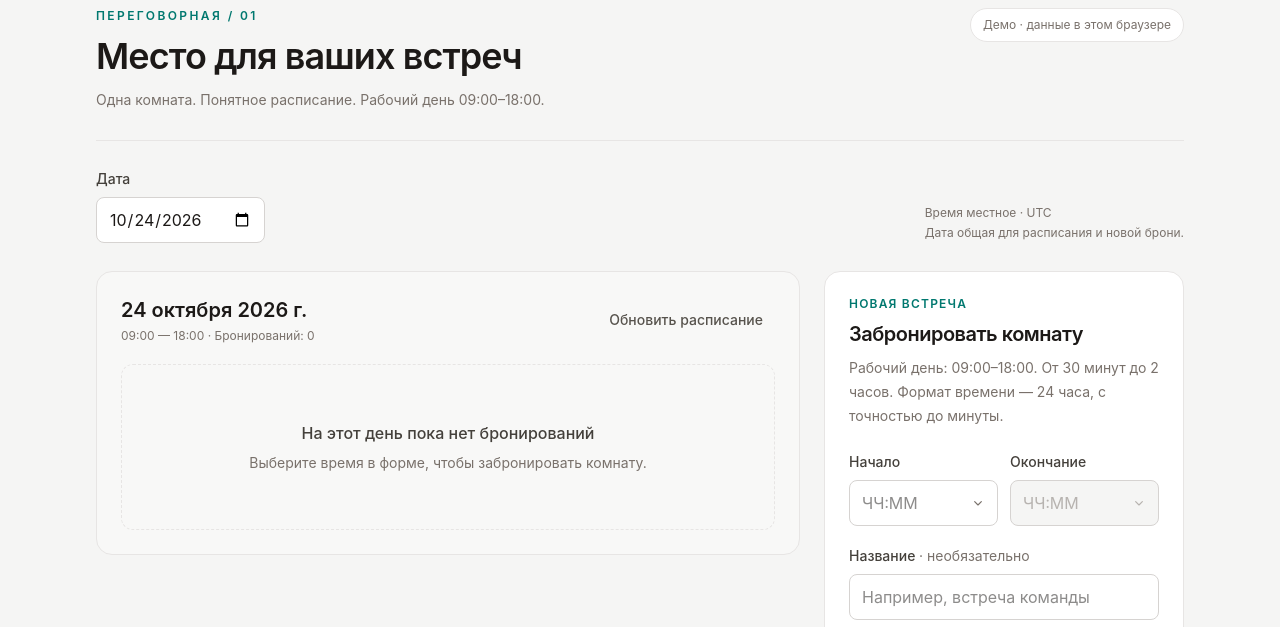
Test: booking UI through real HTTP handlers › keeps both conflict and draft when the 409 refetch also fails
Expected: the text "На этот день пока нет бронирований" is shown, [302,423,594,443]
Type "10:00" into the dropdown labelled "Начало". click: (924, 503)
box: [849,480,998,526]
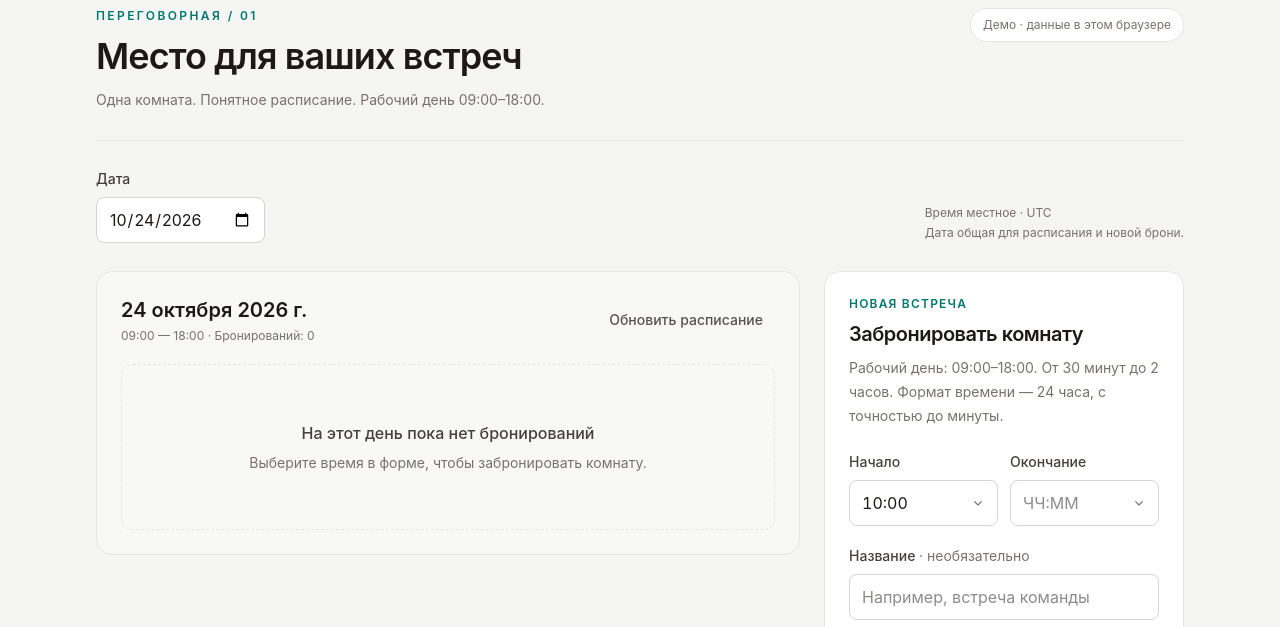
Type "11:00" into the dropdown labelled "Окончание". click: (1084, 503)
box: [1010,480,1159,526]
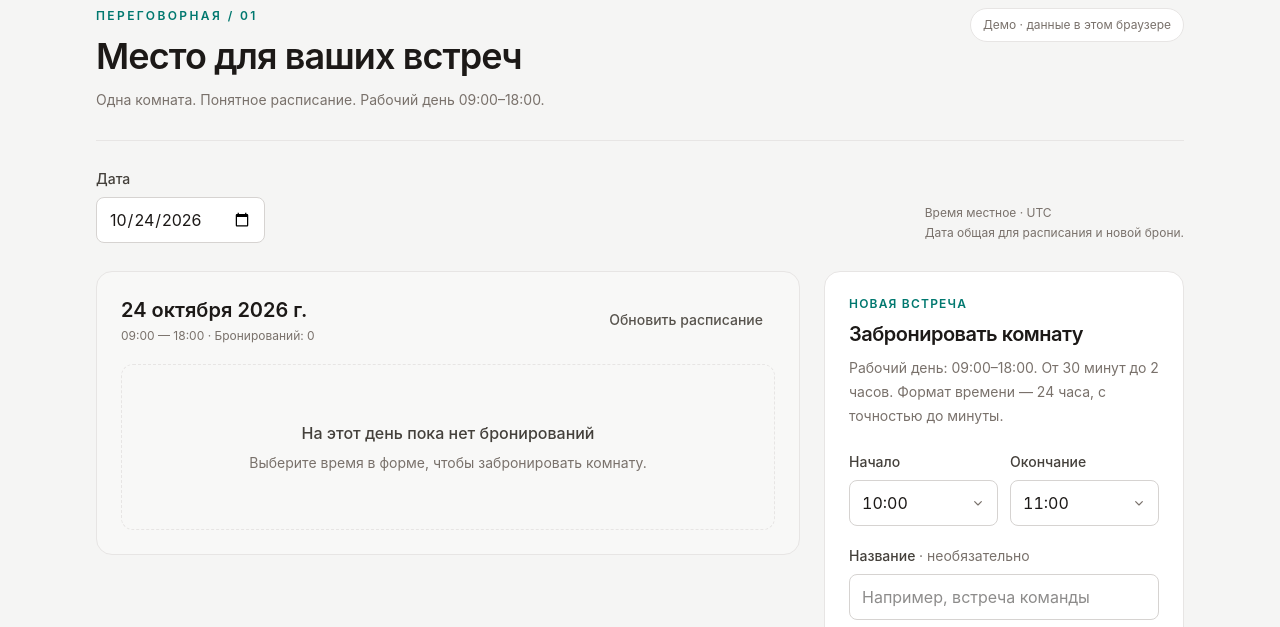
Type "Сохранить ввод" into the field labelled "Название · необязательно". click: (1004, 597)
box: [849,574,1159,620]
(page scrolled)
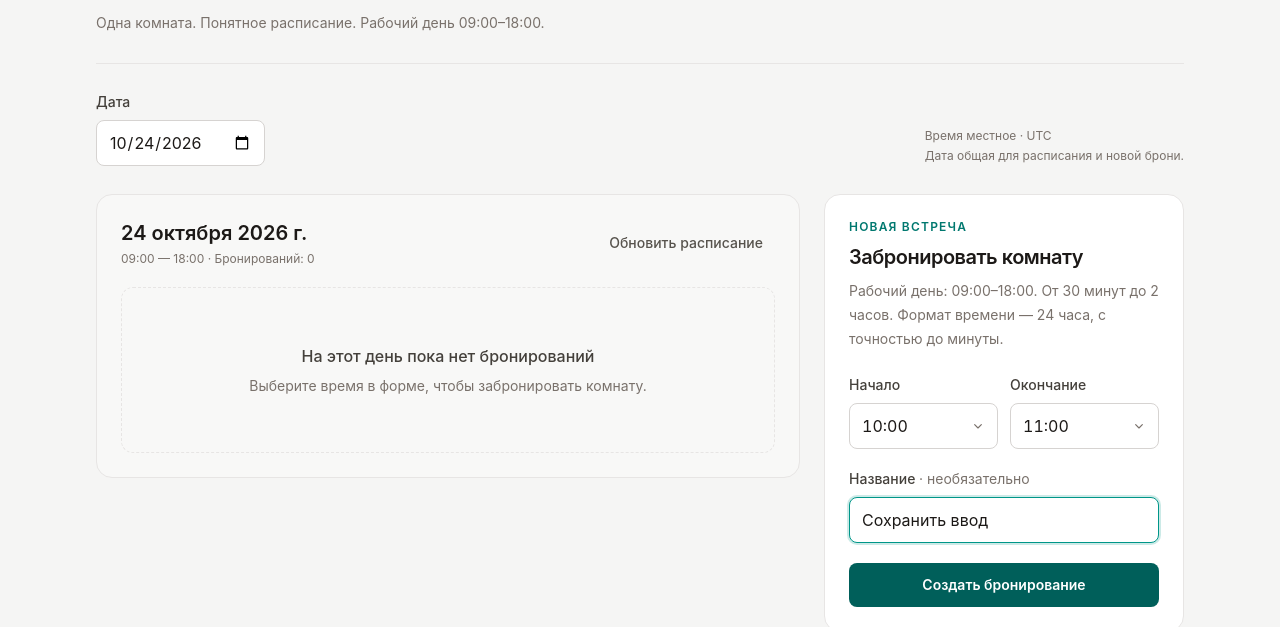
Click the button "Создать бронирование". click: click(1004, 585)
box: [849,563,1159,607]
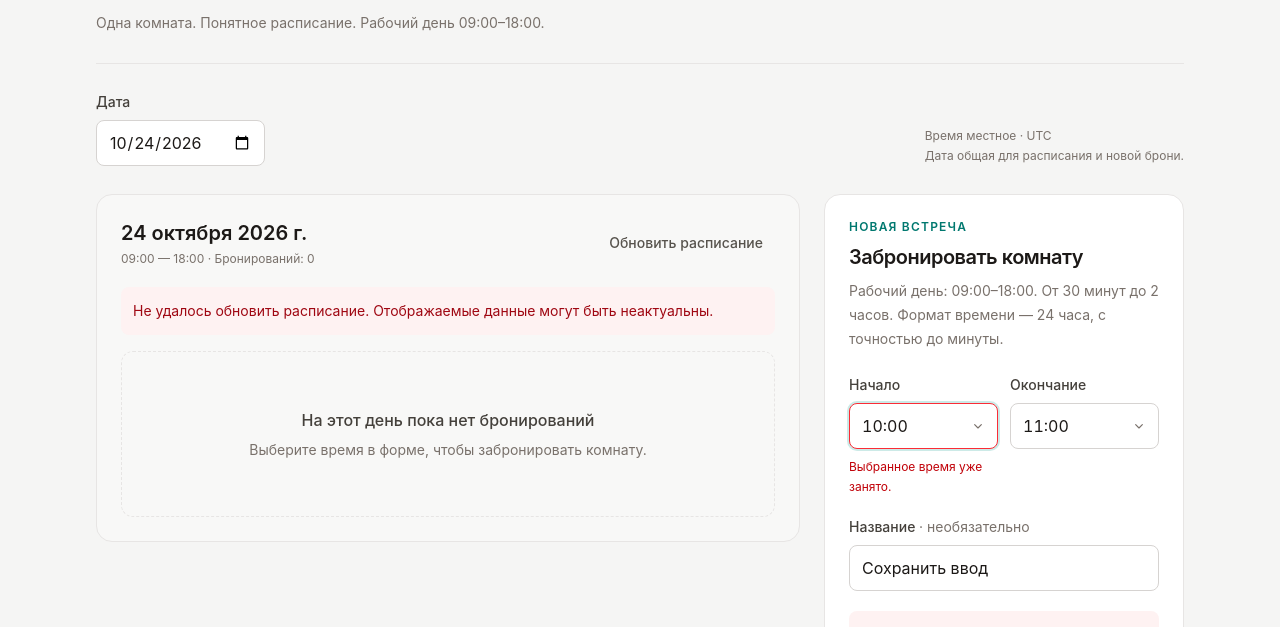
Expected: the dropdown labelled "Начало" is enabled, [849,403,998,449]
Result: the text "Не удалось обновить расписание. Отображаемые данные могут быть неактуальны." is shown at [121,287,775,335]
